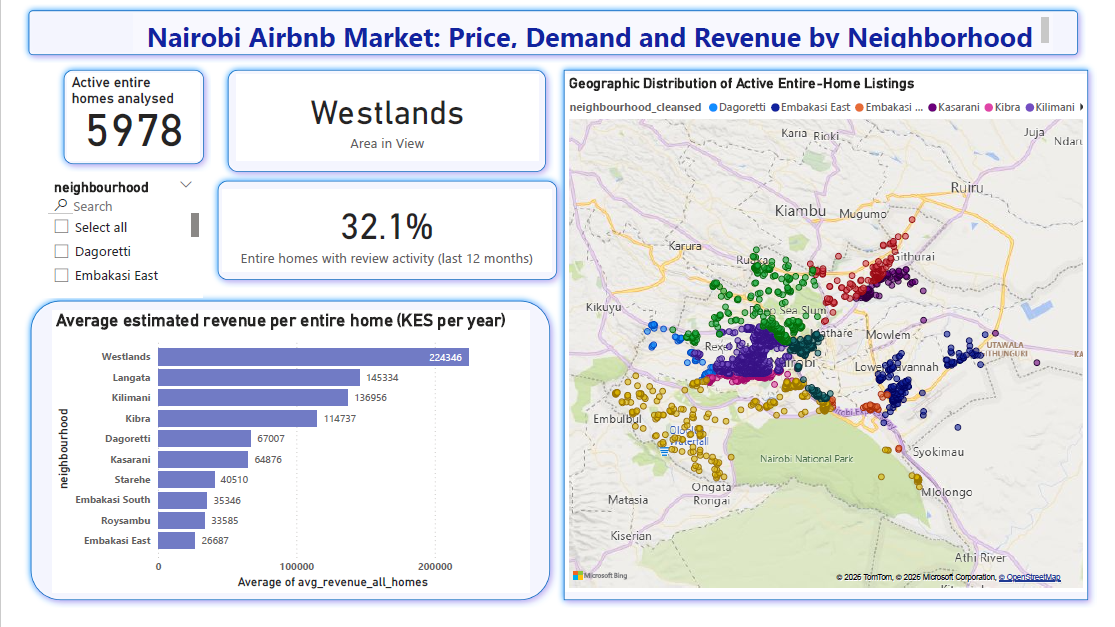

Layout of this report page (visuals, bound fields, positions):
{"tool":"powerbi","page":{"name":"Page 1","canvas":[1280,720],"ordinal":0},"visuals":[{"type":"shape","box":[2.9,345.6,636.5,374.4],"z":0},{"type":"clusteredBarChart","title":"Average estimated revenue per entire home (KES per year)","fields":{"Category":["neighbourhood_summary.neighbourhood"],"Y":["Avg(neighbourhood_summary.avg_revenue_all_homes)"]},"box":[37,366.2,567.8,336],"z":1000},{"type":"shape","box":[41.8,70.6,184.3,129.6],"z":2000},{"type":"card","title":"Active entire homes analysed","fields":{"Values":["Sum(neighbourhood_summary.listings)"]},"box":[54.7,83.5,157,103.7],"z":3000},{"type":"shape","box":[237.6,70.6,396,139.7],"z":4000},{"type":"card","fields":{"Values":["Min(neighbourhood_summary.neighbourhood)"]},"box":[256.3,85,360,102.2],"z":5000},{"type":"shape","box":[226.1,203,420.5,135.4],"z":6000},{"type":"card","fields":{"Values":["neighbourhood_summary.Active share"]},"box":[240.5,221.8,390.2,97.9],"z":7000},{"type":"shape","box":[637.9,70.6,642.2,649.4],"z":8000},{"type":"map","title":"Geographic Distribution of Active Entire-Home Listings","fields":{"Y":["listings_active.latitude"],"X":["listings_active.longitude"],"Series":["listings_active.neighbourhood_cleansed"]},"box":[648,85,620.6,616.3],"z":10000},{"type":"shape","box":[0,0,1267.2,70.6],"z":11000},{"type":"slicer","fields":{"Values":["neighbourhood_summary.neighbourhood"]},"box":[27.4,204.5,188.6,145.4],"z":11500},{"type":"textbox","box":[133.9,11.5,1094.4,46.1],"z":12000}]}

Visuals, with their boxes in screenshot pixels (x1, y1, x2, y2), scaled from the page's 1280x720 canvas onto the 1115x627 screenshot:
shape: 3:301:557:626
"Average estimated revenue per entire home (KES per year)" clusteredBarChart: 32:319:527:611
shape: 36:61:197:174
"Active entire homes analysed" card: 48:73:184:163
shape: 207:61:552:183
card - Min(neighbourhood_summary.neighbourhood): 223:74:537:163
shape: 197:177:563:295
card - neighbourhood_summary.Active share: 209:193:549:278
shape: 556:61:1114:626
"Geographic Distribution of Active Entire-Home Listings" map: 564:74:1105:611
shape: 0:0:1104:61
slicer - neighbourhood_summary.neighbourhood: 24:178:188:305
textbox: 117:10:1070:50
